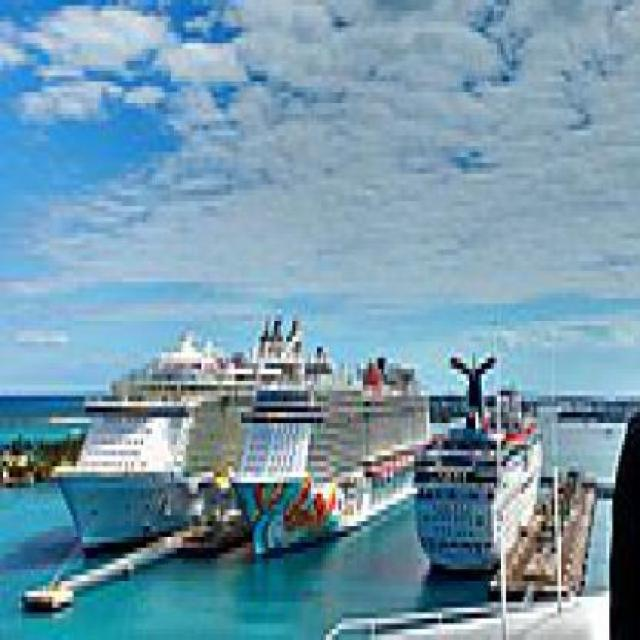cruise: (50, 321, 267, 570), (233, 359, 447, 571), (413, 353, 553, 581)
